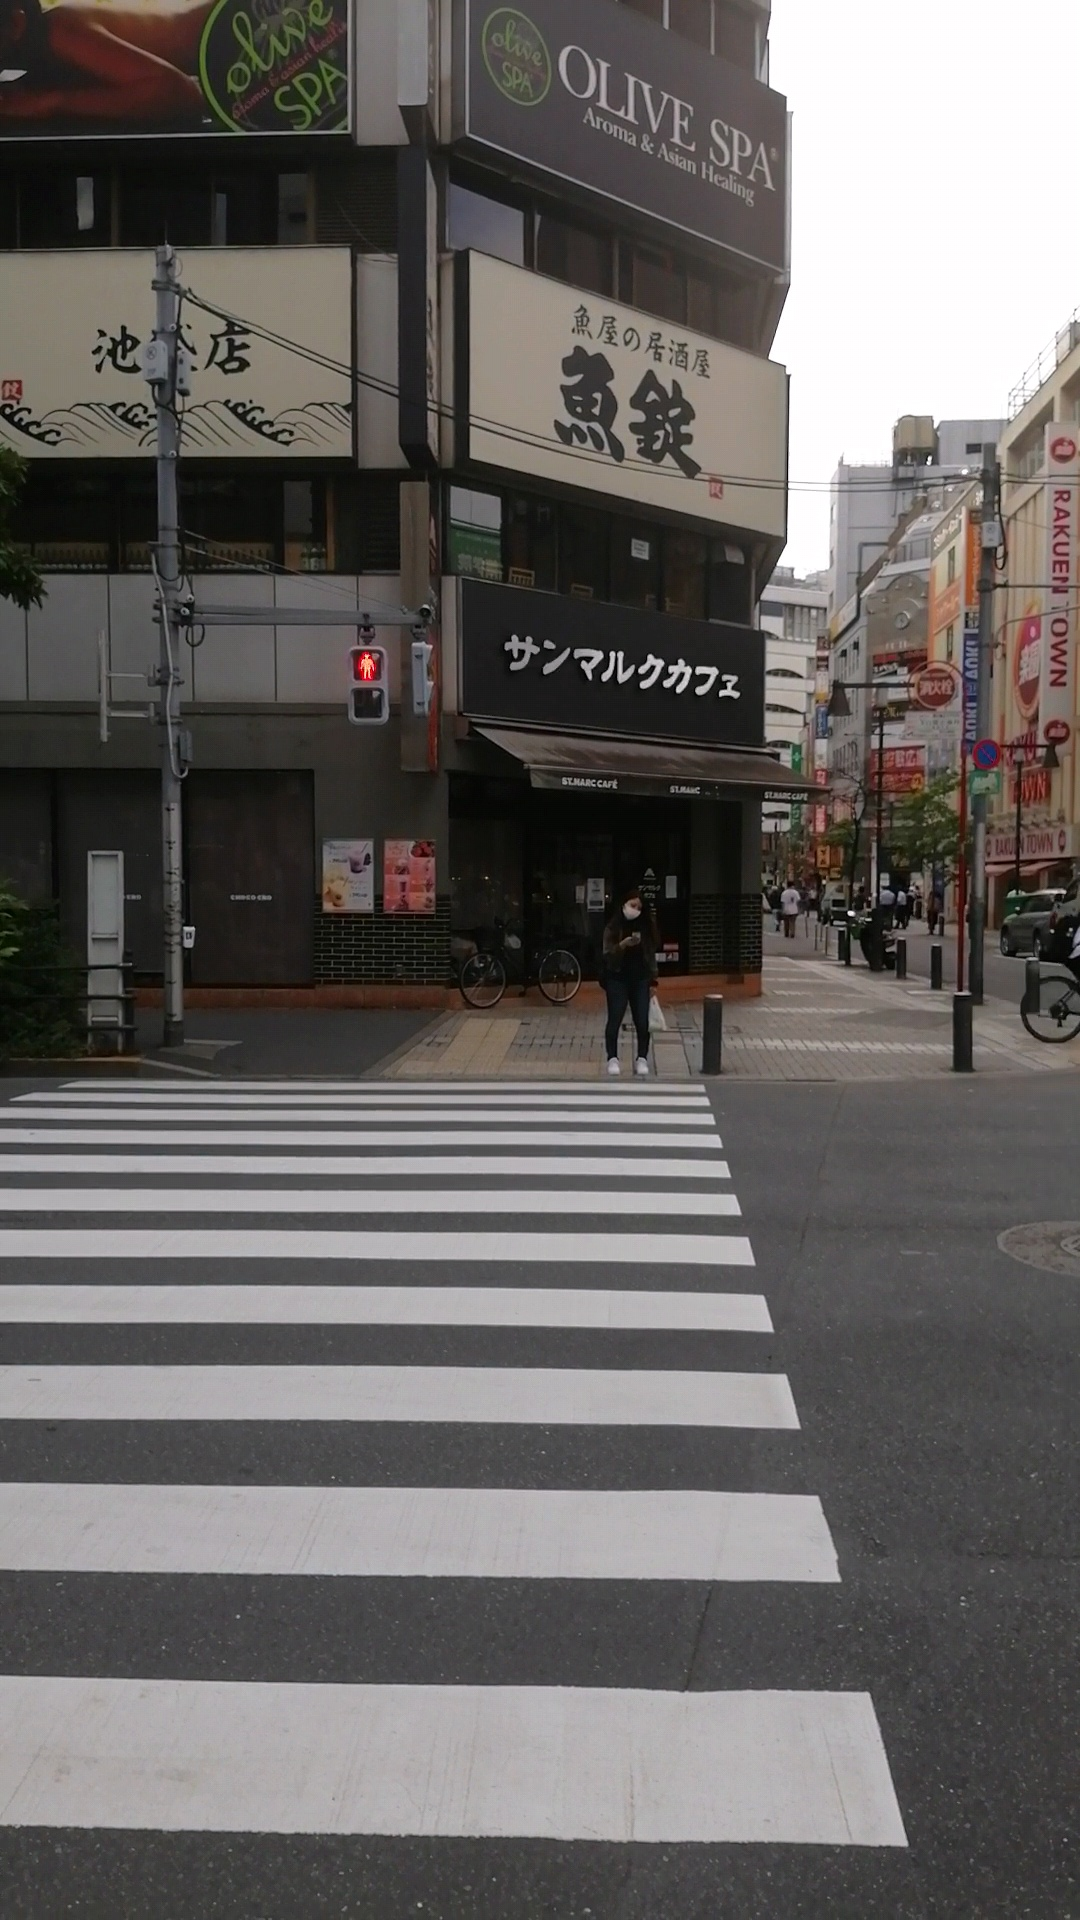red: (347, 645, 388, 723)
